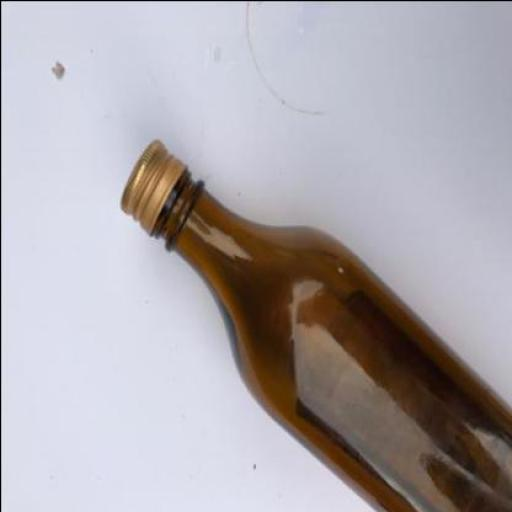glass: (148, 170, 510, 511)
metal: (118, 138, 185, 234)
